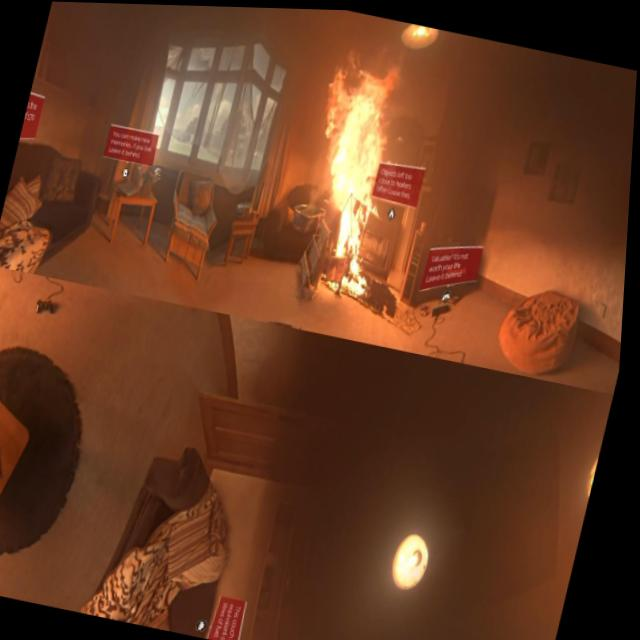fire: (284, 48, 420, 305)
